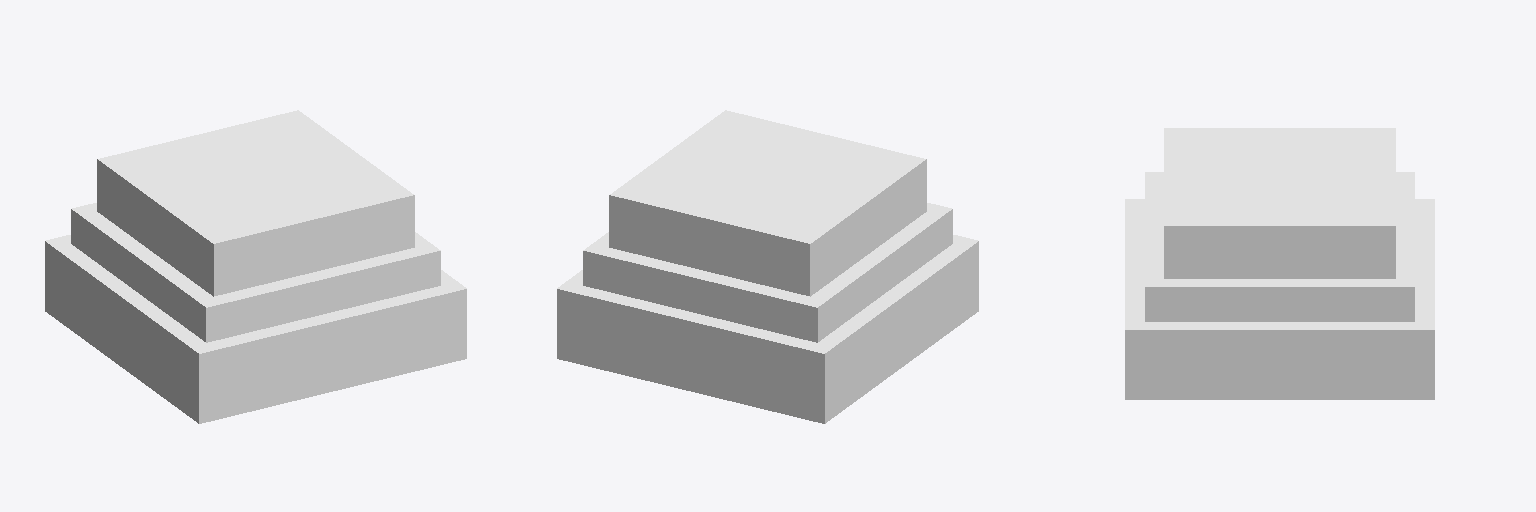
Rendered from interruptorpulsado.obj.
3 views of the same model, side by side, from view 1: azimuth 30°, elevation 25°; view 2: azimuth 150°, elevation 25°; view 3: azimuth 270°, elevation 25° (orthographic).
Visible parts, largest first — view 1: object 1; view 2: object 1; view 3: object 1.
Boxes of the visible parts, <box> form: object 1: <box>45,110,466,423</box>; object 1: <box>557,110,978,423</box>; object 1: <box>1125,128,1434,399</box>.
Size of the model in its own units: 1.6 by 0.9 by 1.6.